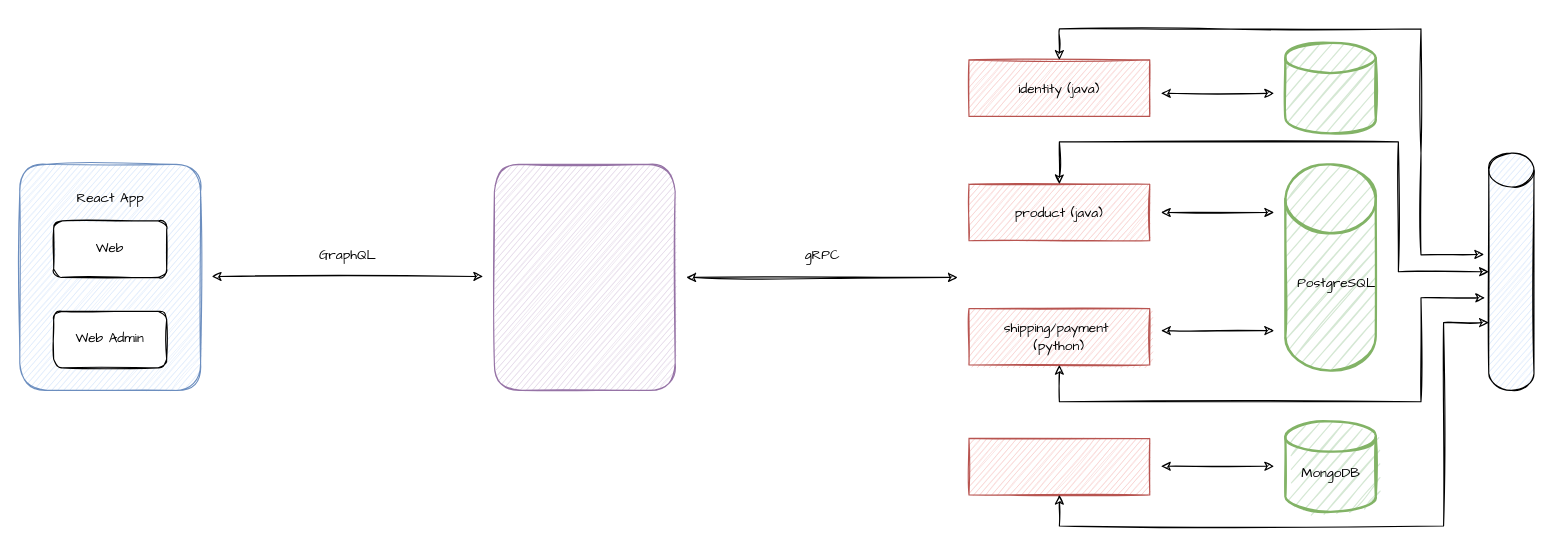
This 1554x556 diagram has some shape labels left out. The shapes that lost their labels are listed below. From the top down, each one's centre as x and y in pixels, then its label:
point (1330, 87): Neo4j
point (584, 276): gateway (golang)
point (1511, 271): K A F K A
point (1059, 466): cart (python)
